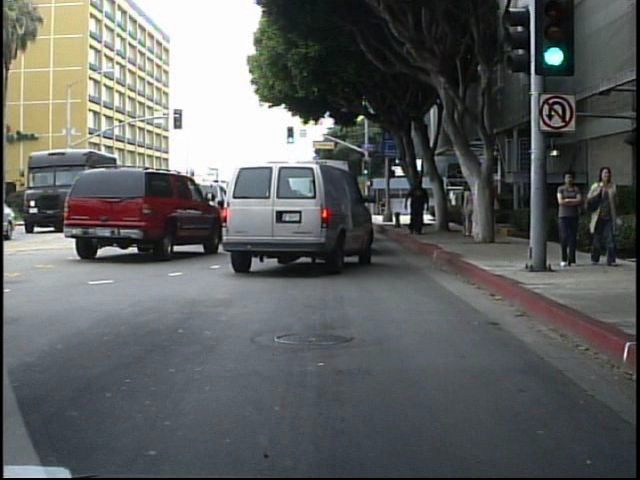person: (586, 161, 625, 271), (553, 169, 585, 273), (403, 180, 432, 237), (483, 172, 504, 242), (460, 177, 479, 248), (414, 186, 428, 220)
